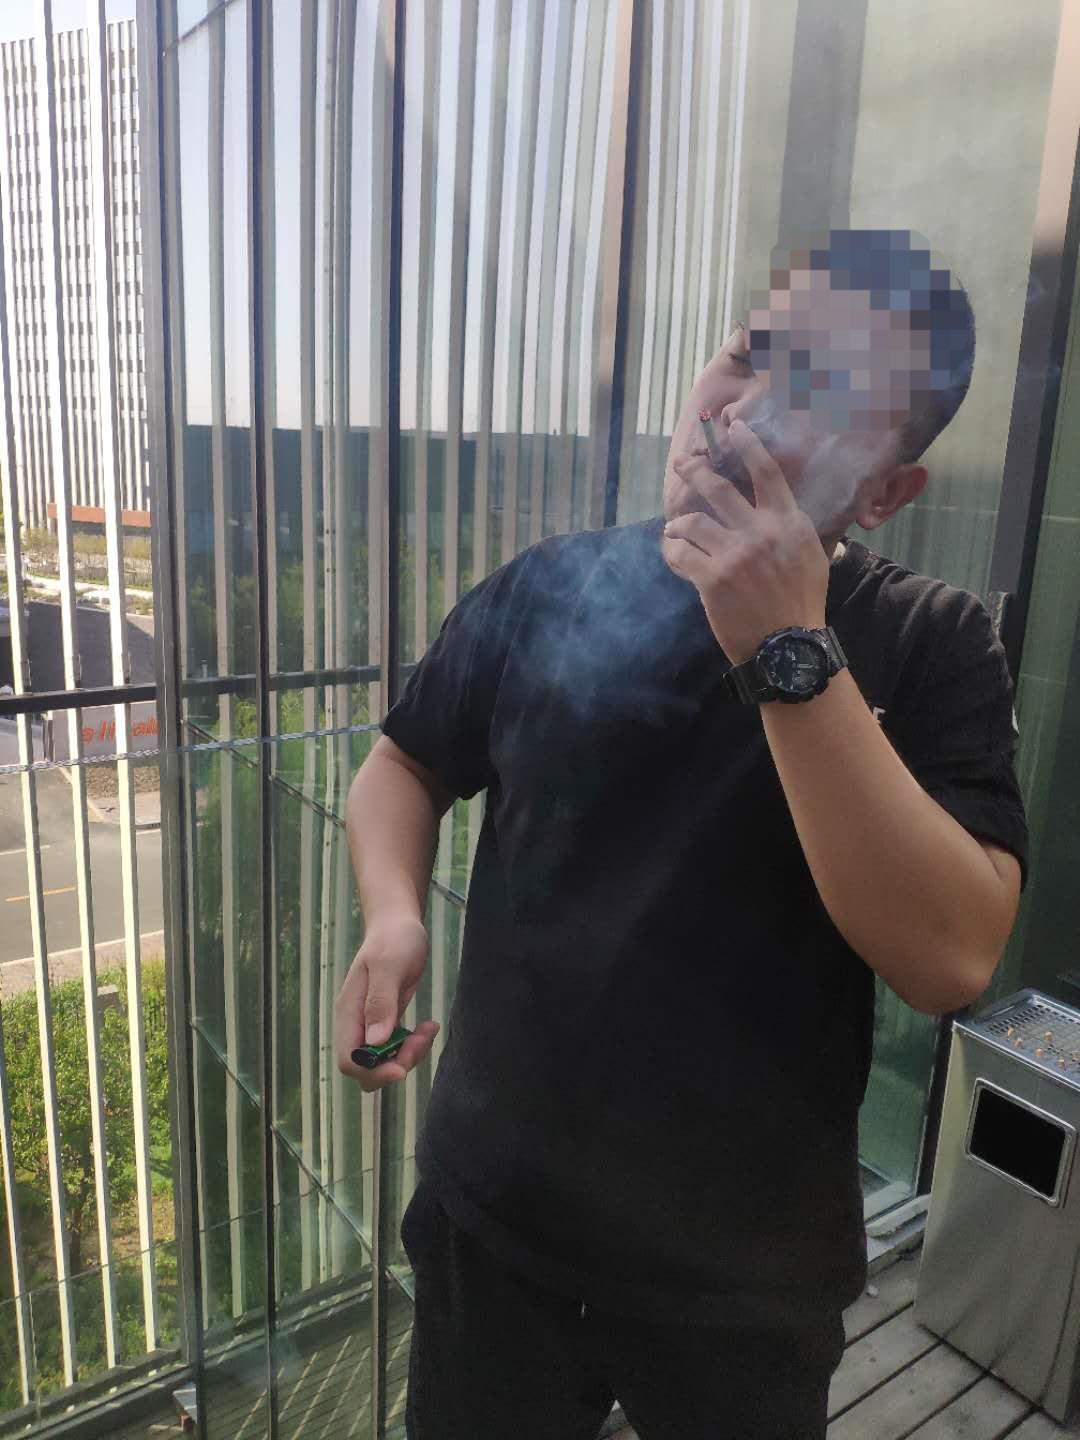smoke: (694, 408, 722, 465)
